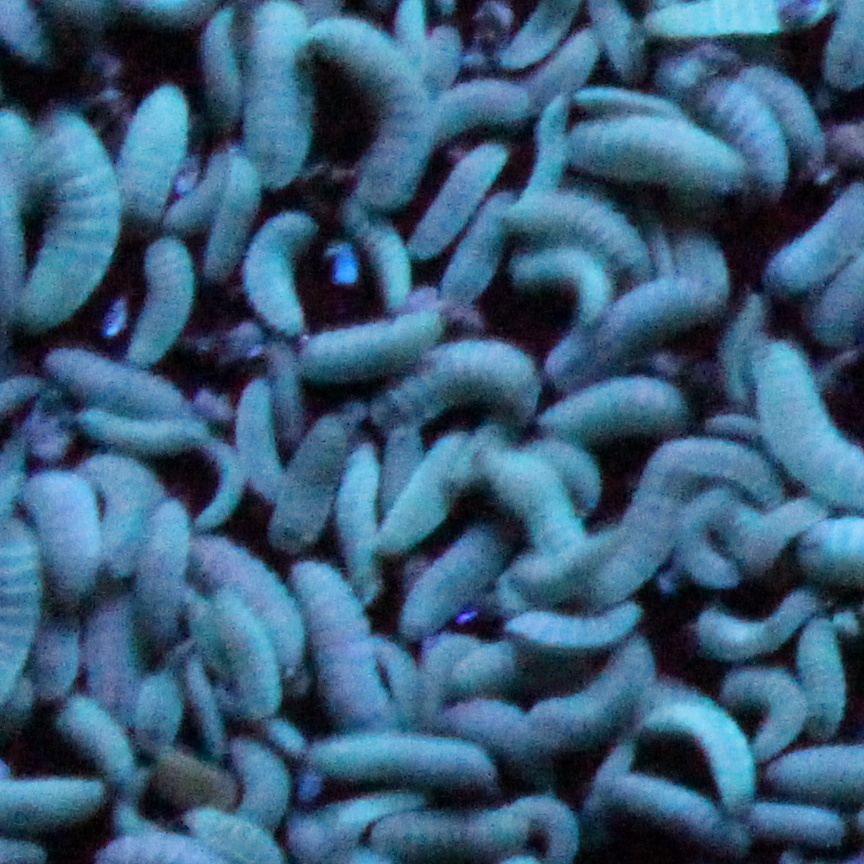larve: (316, 28, 423, 206), (25, 112, 113, 319), (553, 275, 717, 376), (290, 560, 387, 727), (190, 537, 304, 666), (554, 116, 743, 191), (609, 769, 743, 856), (271, 416, 354, 555), (248, 1, 311, 184), (722, 64, 825, 170), (379, 345, 530, 417), (480, 456, 595, 548), (649, 706, 754, 805), (511, 203, 649, 276), (411, 152, 506, 258), (120, 91, 192, 228), (382, 437, 469, 548), (696, 75, 780, 187), (408, 526, 495, 634), (311, 732, 499, 781), (538, 650, 650, 731), (88, 453, 154, 585), (640, 439, 776, 503), (543, 375, 682, 436), (338, 434, 385, 611), (22, 471, 88, 596), (302, 323, 446, 379), (50, 349, 181, 410), (204, 601, 275, 712), (292, 789, 411, 855), (509, 531, 622, 600), (127, 249, 191, 370), (359, 807, 518, 855), (593, 496, 665, 600), (422, 77, 532, 144), (716, 668, 806, 749), (138, 501, 186, 652), (249, 217, 314, 327), (511, 252, 612, 321), (511, 596, 649, 644), (345, 197, 408, 300), (85, 585, 134, 717), (640, 3, 836, 36), (450, 198, 512, 301), (1, 532, 37, 707), (679, 496, 748, 587), (740, 495, 828, 566), (70, 407, 207, 452), (701, 598, 803, 658), (209, 156, 262, 271), (53, 695, 129, 770), (1, 776, 98, 834), (230, 737, 287, 832), (444, 696, 541, 750), (804, 612, 843, 740), (448, 639, 537, 695), (581, 745, 639, 824), (201, 7, 241, 121), (241, 377, 276, 506), (537, 28, 593, 108), (176, 660, 223, 754), (192, 439, 244, 523), (361, 643, 419, 718), (537, 442, 597, 505), (737, 808, 848, 840), (574, 90, 685, 119), (266, 345, 296, 452), (138, 670, 181, 742), (45, 618, 79, 708), (533, 98, 565, 192), (691, 418, 775, 439)
